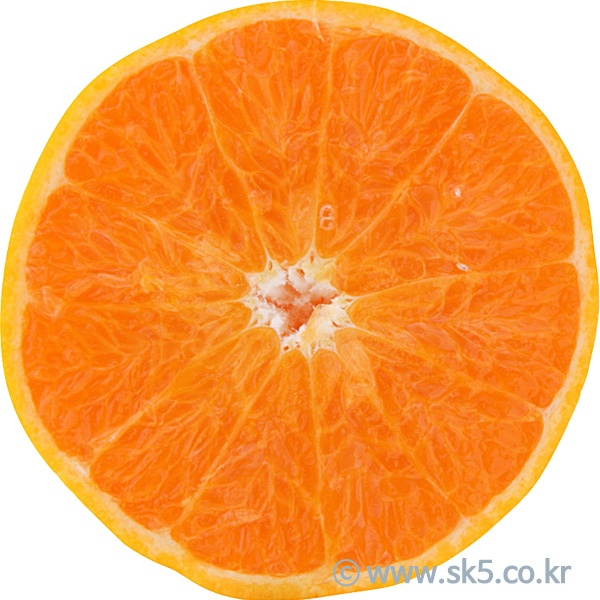mandarin: (1, 1, 600, 599)
